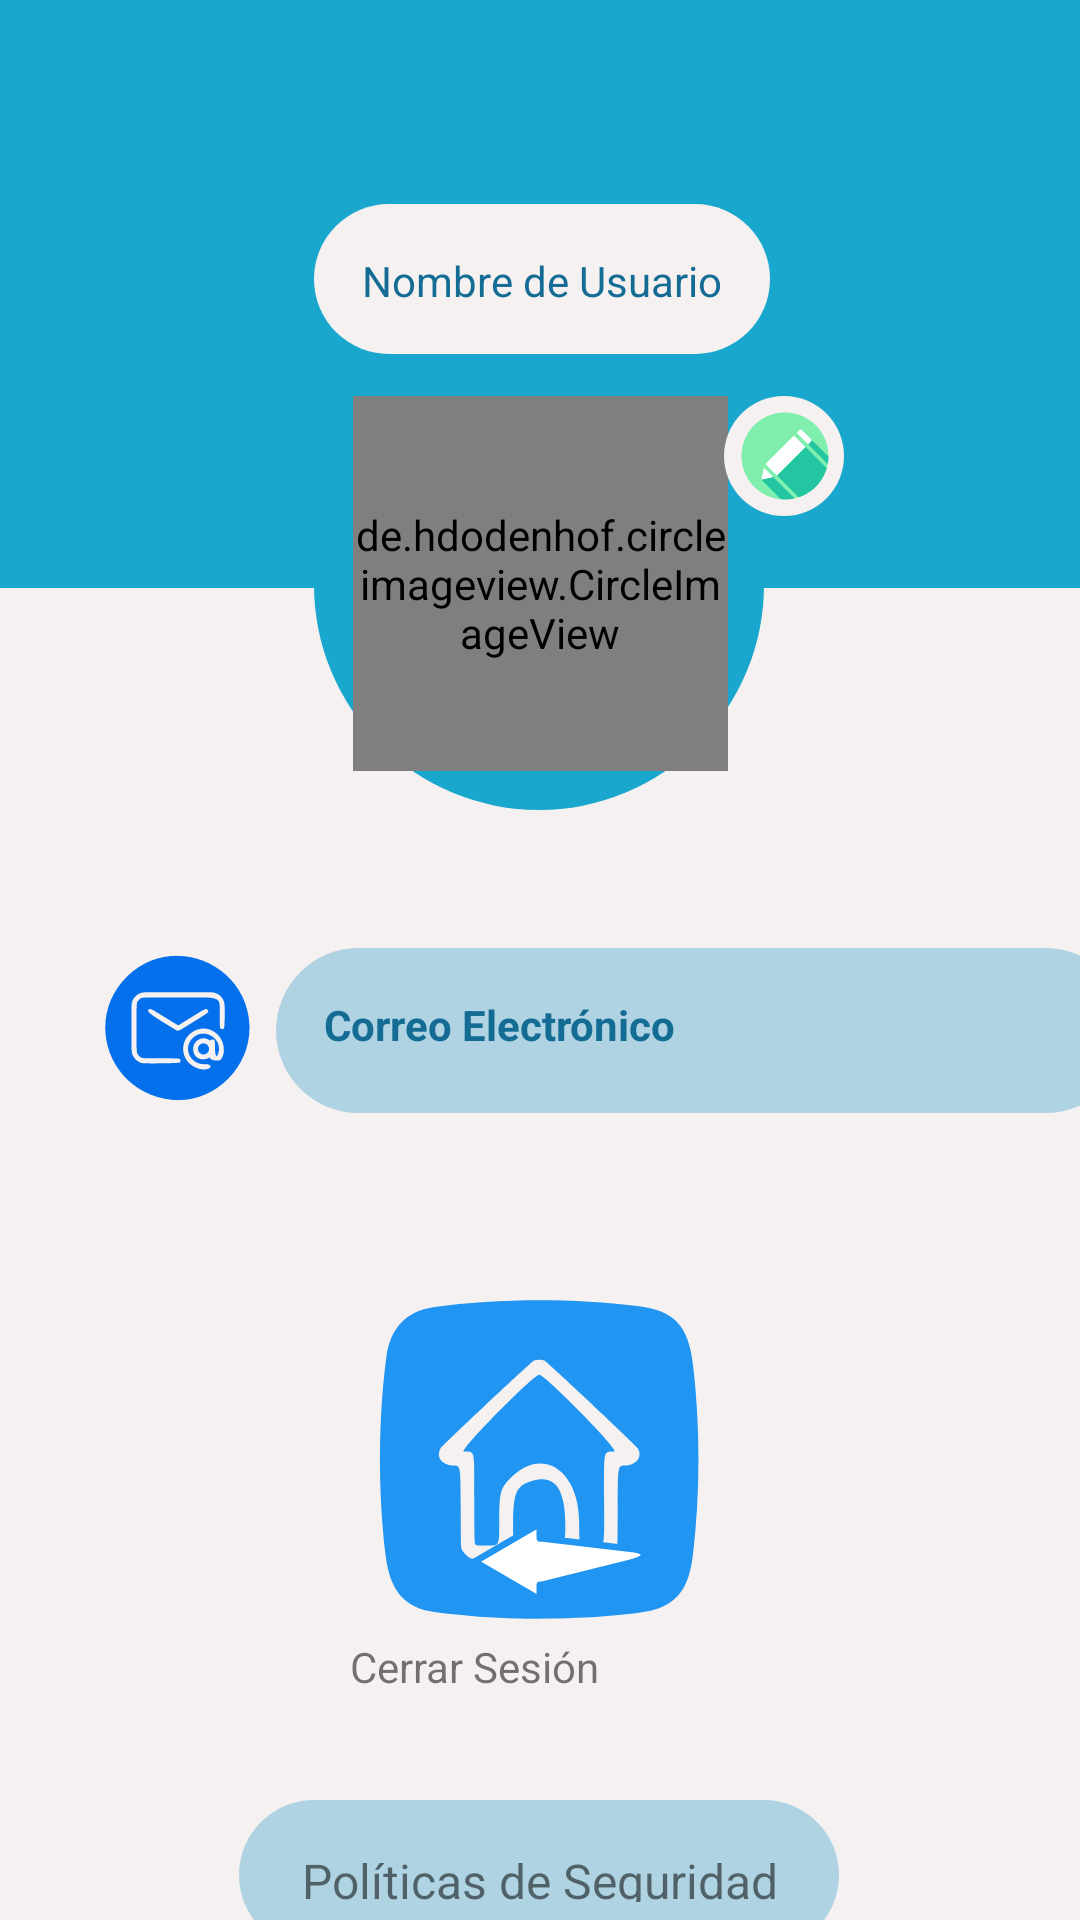

Screen size 1080px x 1920px. Icon name, then its center in pixels as [x,y]:
circuloblanco: [784,456]
